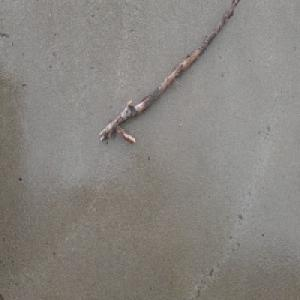Wood: (98, 0, 242, 145)
